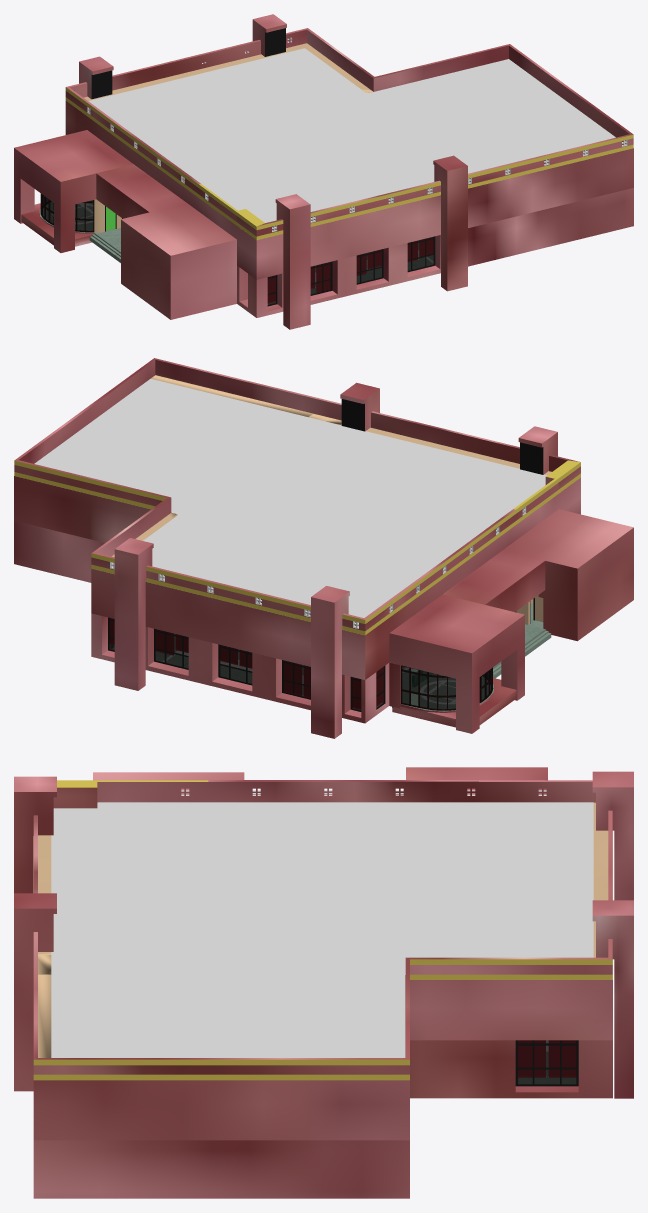
File: messb.fbx
3 renders of one model, top to bottom at view 1: azimuth 30°, elevation 25°; view 2: azimuth 150°, elevation 25°; view 3: azimuth 270°, elevation 25°, orthographic. The views are drawn at different scales.
Visible parts, largest first — view 1: wall.005, front, walltop.002, railing, walltop, side.002, win1_LOD0, celing.001, Plane.001, Cube.001; view 2: wall.005, front, railing, walltop.002, walltop, side.002, win2_LOD0, celing.001, Plane.001, Cube.001, Cylinder; view 3: wall.005, walltop.002, walltop, railing, side.002, front, win2.001, Cylinder.011.
Part boxes in pixels (x1,y1,x2,y2): wall.005: (88,48,615,222); front: (14,130,236,319); walltop.002: (65,101,633,279); railing: (65,28,633,239); walltop: (84,43,633,317); side.002: (79,14,467,329); win1_LOD0: (267,236,435,306); celing.001: (39,200,433,304); Plane.001: (40,193,94,232); Cube.001: (21,203,93,246); wall.005: (34,378,546,626); front: (389,509,633,733); railing: (14,358,580,635); walltop.002: (14,476,580,679); walltop: (14,375,551,723); side.002: (114,382,557,738); win2_LOD0: (108,617,361,711); celing.001: (112,624,551,712); Plane.001: (401,665,493,710); Cube.001: (392,678,516,727); Cylinder: (284,661,310,697); wall.005: (51,802,593,1057); walltop.002: (33,980,612,1140); walltop: (33,802,612,1198); railing: (33,780,612,1080); side.002: (14,771,633,1098); front: (93,767,547,794); win2.001: (515,1040,578,1086); Cylinder.011: (518,1040,575,1077).
Size of what is drawn, in the model's own units: 3810 by 973 by 2992.
